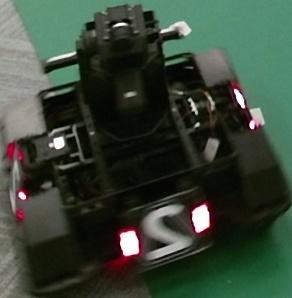armor_2: (118, 203, 211, 257)
front_2: (134, 198, 196, 263)
